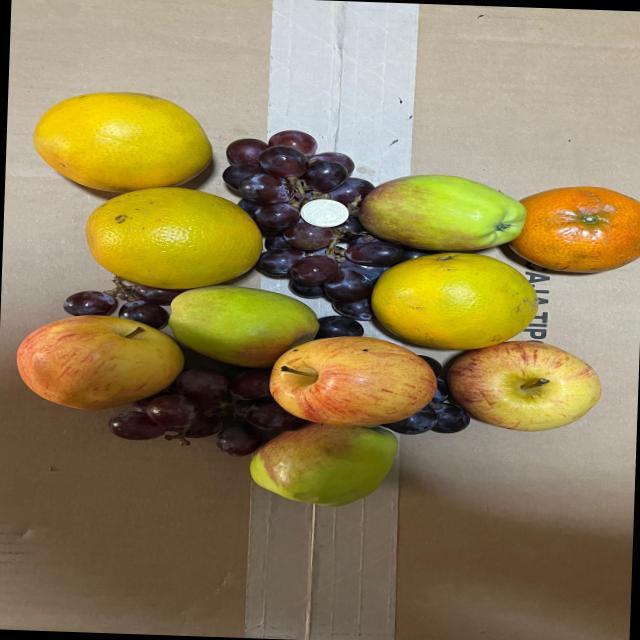moneda: (294, 194, 357, 230)
